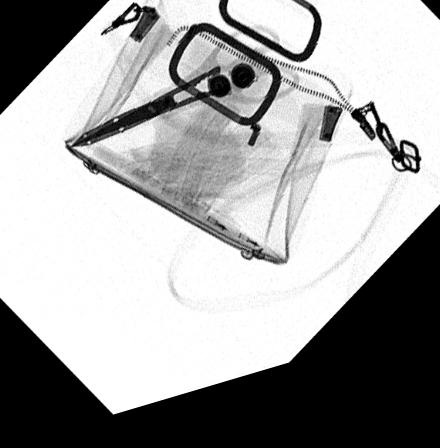Scissors: (66, 38, 300, 154)
